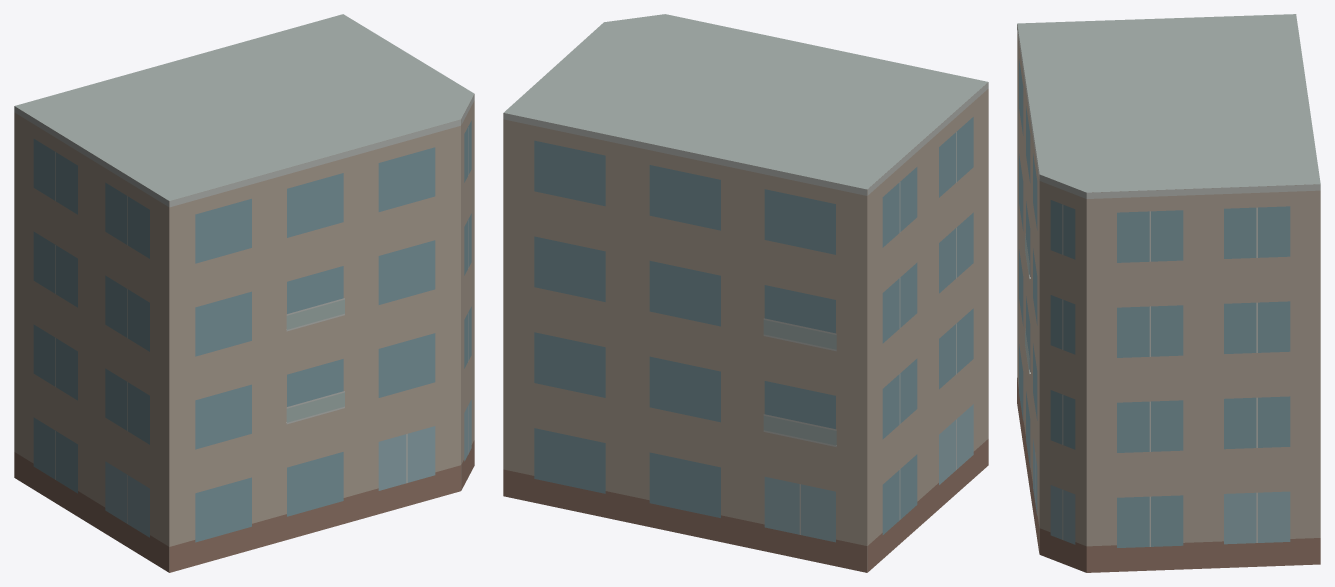
File: survey-upis-32963401.glb
3 renders of one model, left to right at view 1: azimuth 30°, elevation 25°; view 2: azimuth 150°, elevation 25°; view 3: azimuth 270°, elevation 25°, orthographic. The views are drawn at different scales.
Visible parts, largest first — view 1: survey-upis-32963401.tmp; view 2: survey-upis-32963401.tmp; view 3: survey-upis-32963401.tmp.
Boxes of the visible parts, bbox=[...] form: survey-upis-32963401.tmp: bbox=[14, 14, 474, 572]; survey-upis-32963401.tmp: bbox=[503, 14, 988, 572]; survey-upis-32963401.tmp: bbox=[1017, 14, 1320, 572].
Bounding box in the file's own units: 14.52 × 14.4 × 10.43.
